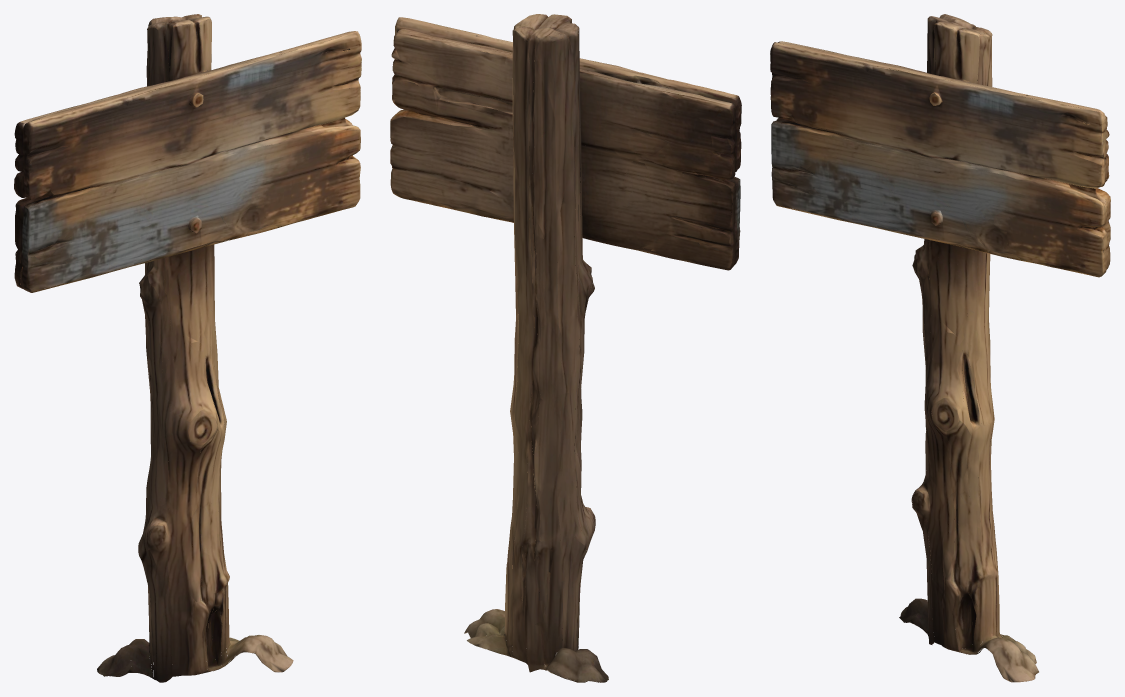
The model's file is letrero_poste.glb.
3 views of the same model, side by side, from view 1: azimuth 30°, elevation 25°; view 2: azimuth 150°, elevation 25°; view 3: azimuth 330°, elevation 25° (orthographic). The views are drawn at different scales.
Visible parts, largest first — view 1: geometry_0; view 2: geometry_0; view 3: geometry_0.
Part boxes in pixels (bbox=[...]): geometry_0: bbox=[14, 14, 361, 682]; geometry_0: bbox=[390, 14, 741, 682]; geometry_0: bbox=[770, 14, 1110, 682].
Bounding box in the file's own units: 1.2 × 2.2 × 0.2506.
Materials: 1 (1 with a texture image).
